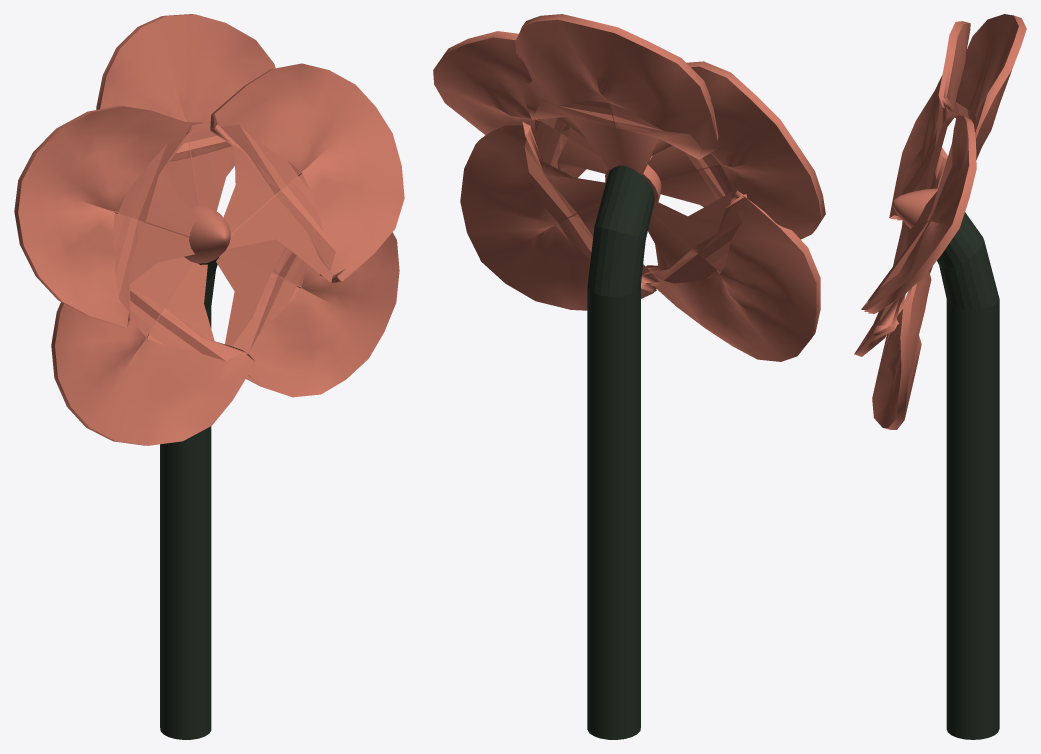
File: orchid.obj
The picture shows the model from 3 angles, left to right: view 1: azimuth 30°, elevation 25°; view 2: azimuth 150°, elevation 25°; view 3: azimuth 270°, elevation 25°; orthographic projection. The views are drawn at different scales.
Parts seen in each view (by area): view 1: orchid pasted__head pasted__pCylinder19, orchid pasted__head pasted__pCylinder20, orchid pasted__head pasted__pCylinder18, orchid pasted__head pasted__pCylinder17, orchid pasted__head pasted__pCylinder16, pasted__stem orchid, orchid pasted__pCone1 pasted__head; view 2: pasted__stem orchid, orchid pasted__head pasted__pCylinder16, orchid pasted__head pasted__pCylinder18, orchid pasted__head pasted__pCylinder17, orchid pasted__head pasted__pCylinder20, orchid pasted__head pasted__pCylinder19; view 3: pasted__stem orchid, orchid pasted__head pasted__pCylinder19, orchid pasted__head pasted__pCylinder16, orchid pasted__head pasted__pCylinder20, orchid pasted__head pasted__pCylinder17, orchid pasted__head pasted__pCylinder18, orchid pasted__pCone1 pasted__head.
Part boxes in pixels (<box>): orchid pasted__head pasted__pCylinder19: <box>210,63,404,282</box>; orchid pasted__head pasted__pCylinder20: <box>14,105,197,328</box>; orchid pasted__head pasted__pCylinder18: <box>51,257,255,445</box>; orchid pasted__head pasted__pCylinder17: <box>216,232,399,397</box>; orchid pasted__head pasted__pCylinder16: <box>96,14,275,210</box>; pasted__stem orchid: <box>160,257,218,739</box>; orchid pasted__pCone1 pasted__head: <box>184,206,230,263</box>; pasted__stem orchid: <box>587,165,654,739</box>; orchid pasted__head pasted__pCylinder16: <box>515,14,718,175</box>; orchid pasted__head pasted__pCylinder18: <box>643,190,820,361</box>; orchid pasted__head pasted__pCylinder17: <box>460,121,659,310</box>; orchid pasted__head pasted__pCylinder20: <box>648,61,825,239</box>; orchid pasted__head pasted__pCylinder19: <box>433,31,608,177</box>; pasted__stem orchid: <box>937,212,999,739</box>; orchid pasted__head pasted__pCylinder19: <box>861,115,976,313</box>; orchid pasted__head pasted__pCylinder16: <box>954,14,1026,159</box>; orchid pasted__head pasted__pCylinder20: <box>889,21,970,220</box>; orchid pasted__head pasted__pCylinder17: <box>872,266,932,429</box>; orchid pasted__head pasted__pCylinder18: <box>854,147,947,356</box>; orchid pasted__pCone1 pasted__head: <box>892,188,938,228</box>.
Size of the model in its own units: 1.79 by 3.21 by 0.7147.
